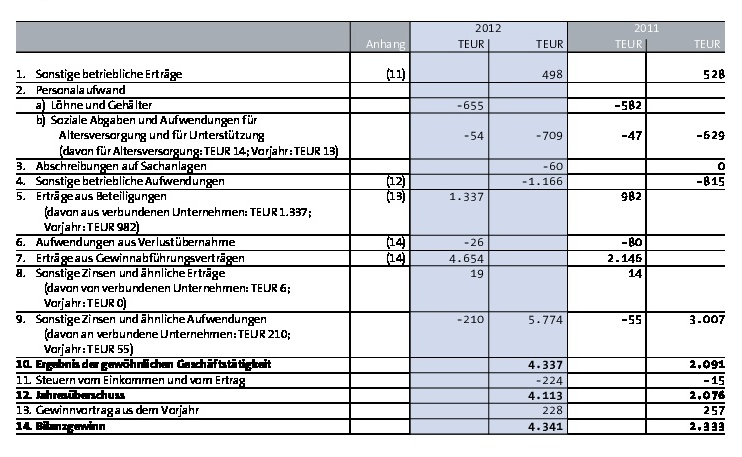table: (0, 0, 742, 457)
